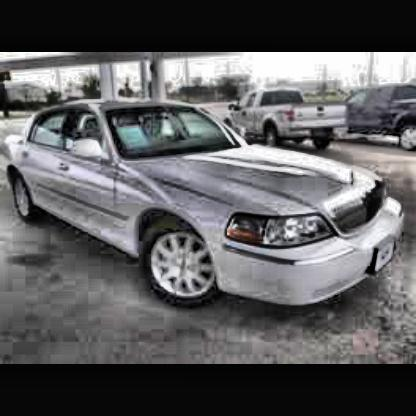Lincoln Town Car Sedan 2011: (8, 101, 411, 302)
